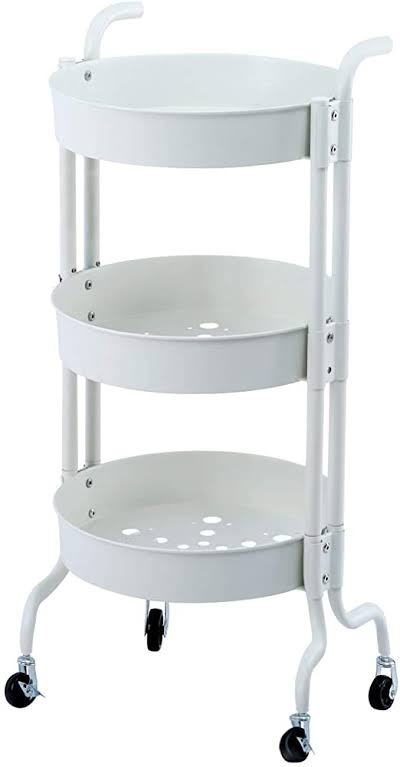Carts: (4, 1, 400, 764)
